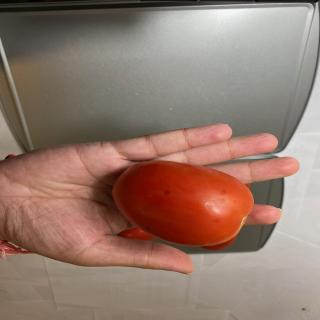Chilli: (112, 160, 255, 247)
Tomato: (116, 227, 154, 241)
